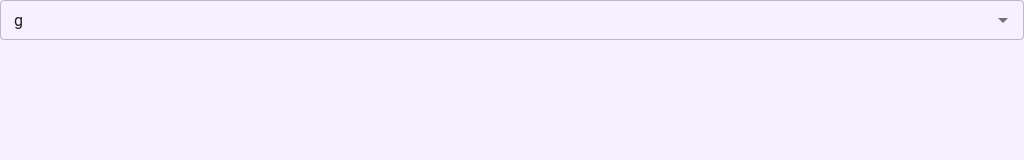
Test: UnitPicker › does not save arbitrary text and restores the selected unit on blur
Replace the text in the dropdown with "unknown unit": [496, 20] box [6,6,985,34]
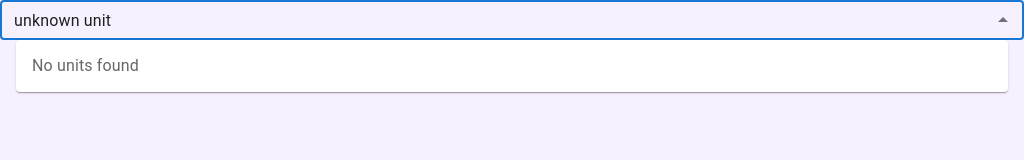
Press Enter in the dropdown, box [6,6,985,34]
Leave the dropdown, box [6,6,985,34]
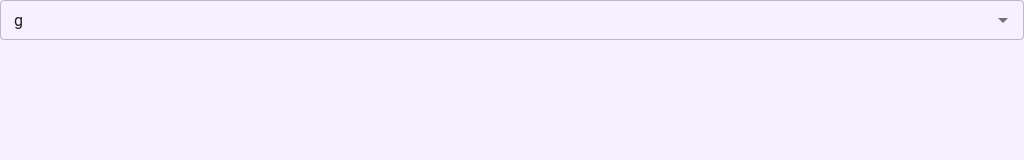
Check: the dropdown holds "g", box [6,6,985,34]
